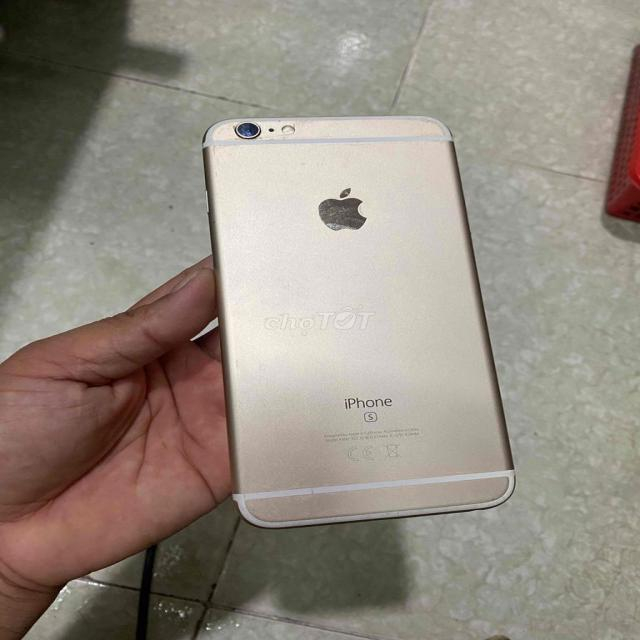gen_6: (203, 116, 514, 528)
scratch: (209, 112, 320, 158)
